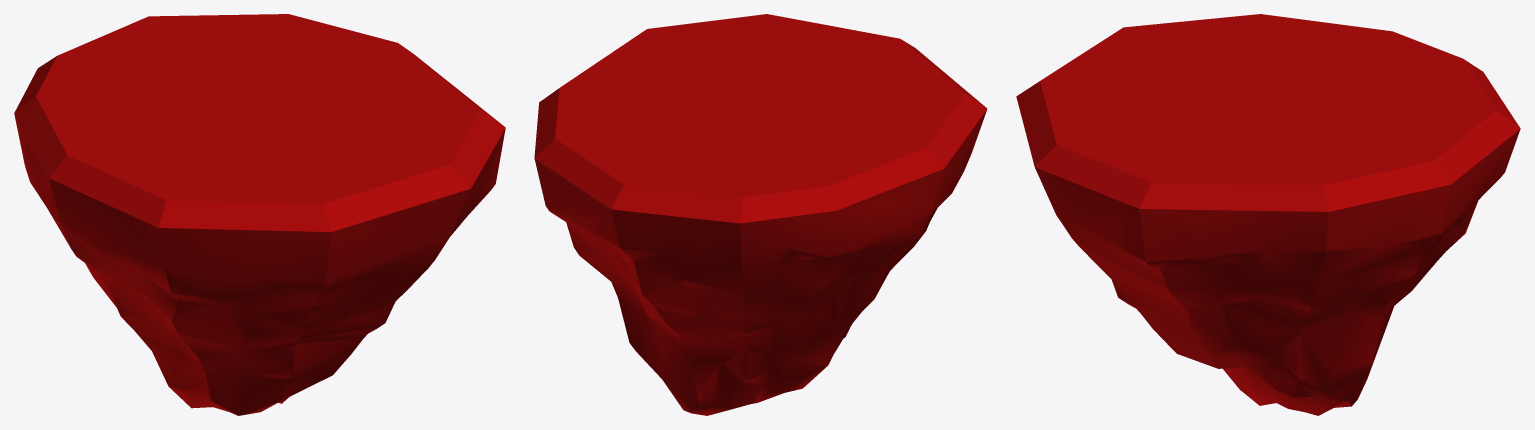
File: Jump_Map_Tiles_6.fbx
The picture shows the model from 3 angles, left to right: view 1: azimuth 30°, elevation 25°; view 2: azimuth 150°, elevation 25°; view 3: azimuth 270°, elevation 25°; orthographic projection. The views are drawn at different scales.
Parts seen in each view (by area): view 1: Jump_Map_Tiles_6; view 2: Jump_Map_Tiles_6; view 3: Jump_Map_Tiles_6.
Part boxes in pixels (bbox=[...]): Jump_Map_Tiles_6: bbox=[14, 14, 505, 415]; Jump_Map_Tiles_6: bbox=[534, 14, 987, 415]; Jump_Map_Tiles_6: bbox=[1016, 14, 1520, 415].
Size of the model in its own units: 11.37 by 8.42 by 12.79.
